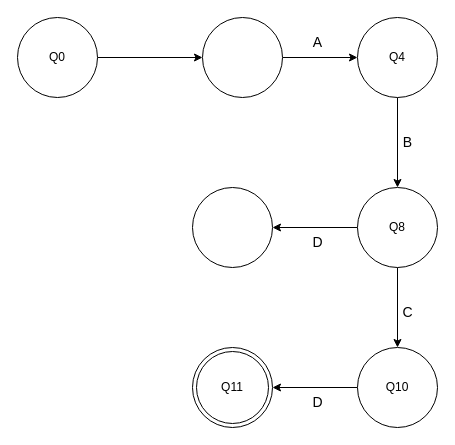
Some shapes in this 455 by 445 pixel diagram are drawn without their labels. Each missing label, with the centre of its shape:
"Q1" goes at pixel 242 57.
"Q12" goes at pixel 232 227.
